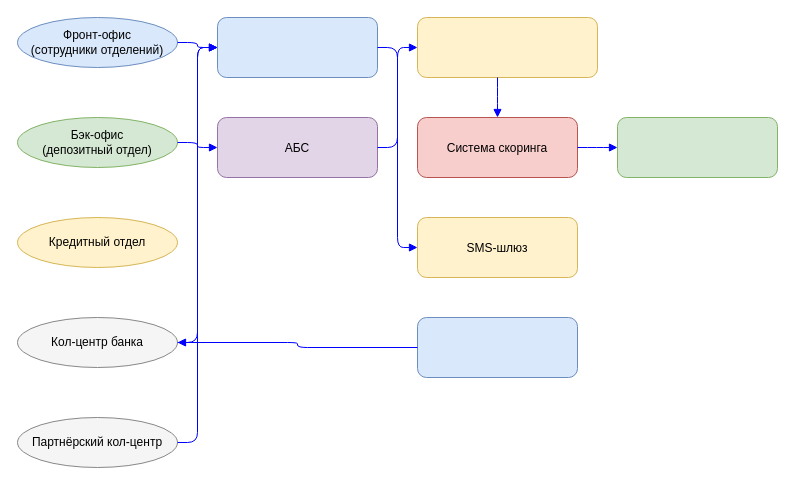
The diagram is 795 pixels wide and 485 high, and some of its shapes have lost their labels. The box of each missing label's shape, as (x1, y1, x2, y2) in pixels:
БКИ: (616, 116, 778, 178)
Интернет-банк: (216, 16, 378, 78)
Кредитный конвейер: (416, 16, 598, 78)
Сайт: (416, 316, 578, 378)
